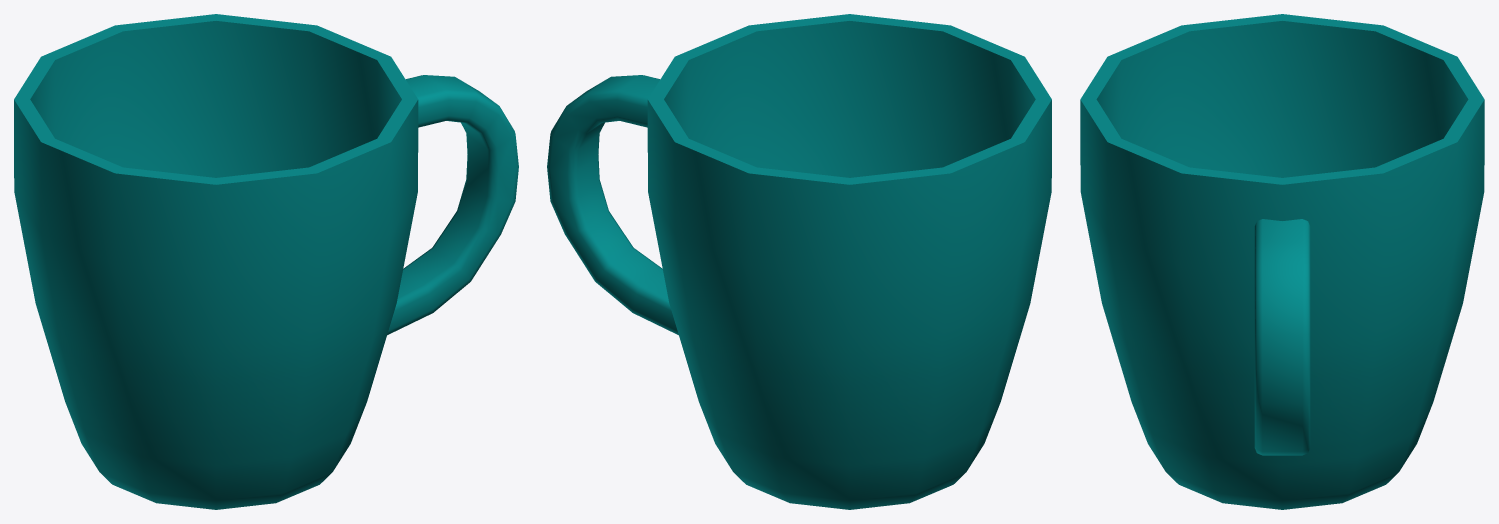
Rendered from Cup_01.2.fbx.
3 views of the same model, side by side, from view 1: azimuth 30°, elevation 25°; view 2: azimuth 150°, elevation 25°; view 3: azimuth 270°, elevation 25° (orthographic).
Parts seen in each view (by area): view 1: Cup_01.2; view 2: Cup_01.2; view 3: Cup_01.2.
Part boxes in pixels (x1,y1,x2,y2): Cup_01.2: [14, 14, 518, 509]; Cup_01.2: [547, 14, 1051, 509]; Cup_01.2: [1080, 14, 1484, 509].
Bounding box in the file's own units: 50.53 × 37.89 × 37.89.
